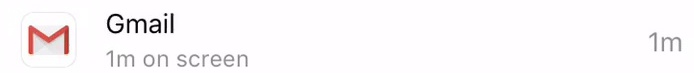name: (90, 9, 198, 40)
time: (103, 47, 141, 73)
